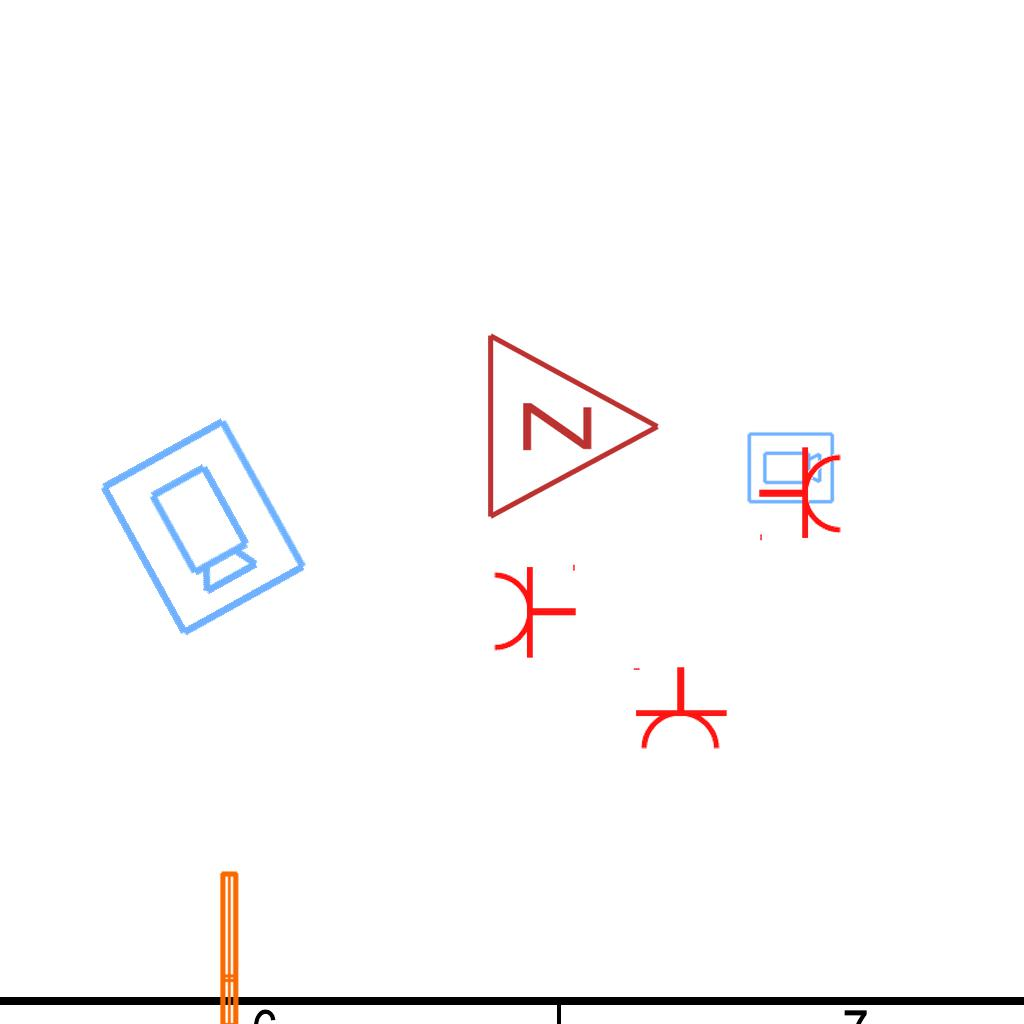Ambulanz_Pendelleuchte_LED: (214, 866, 270, 1024)
KFO_Kamera_mit_Festobjektiv: (90, 410, 314, 644), (745, 430, 836, 507)
Schukosteckdose_einfach: (491, 560, 578, 660), (629, 665, 729, 752), (757, 445, 844, 545)
Zimmersignalleuchte: (473, 326, 673, 522)
